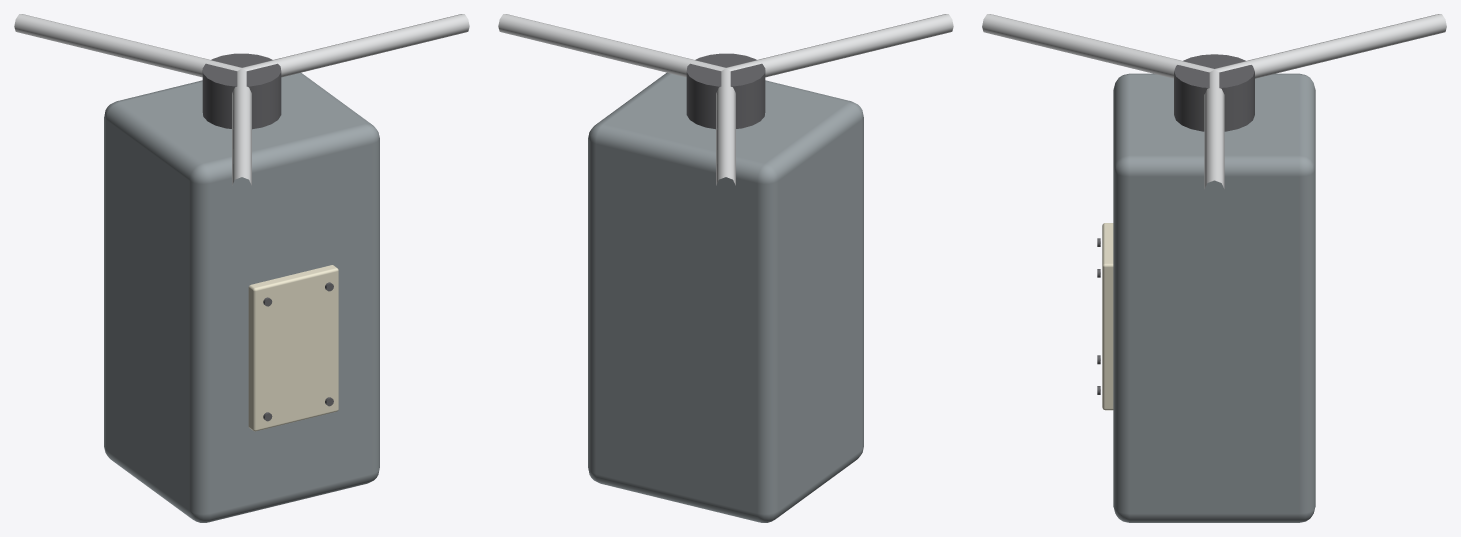
The model's file is prison-complex-builder-security-turnstile-161b87d3__25637.glb.
3 views of the same model, side by side, from view 1: azimuth 30°, elevation 25°; view 2: azimuth 150°, elevation 25°; view 3: azimuth 270°, elevation 25° (orthographic). The views are drawn at different scales.
Visible parts, largest first — view 1: security-turnstile, turnstile-arms; view 2: security-turnstile, turnstile-arms; view 3: security-turnstile, turnstile-arms.
Part boxes in pixels (box(x1,y1,x2,y2)): security-turnstile: box(104, 53, 379, 522); turnstile-arms: box(14, 14, 469, 185); security-turnstile: box(588, 53, 863, 522); turnstile-arms: box(498, 14, 953, 185); security-turnstile: box(1097, 54, 1315, 522); turnstile-arms: box(982, 14, 1446, 188).
Size of the model in its own units: 0.9967 by 1.13 by 1.15.
